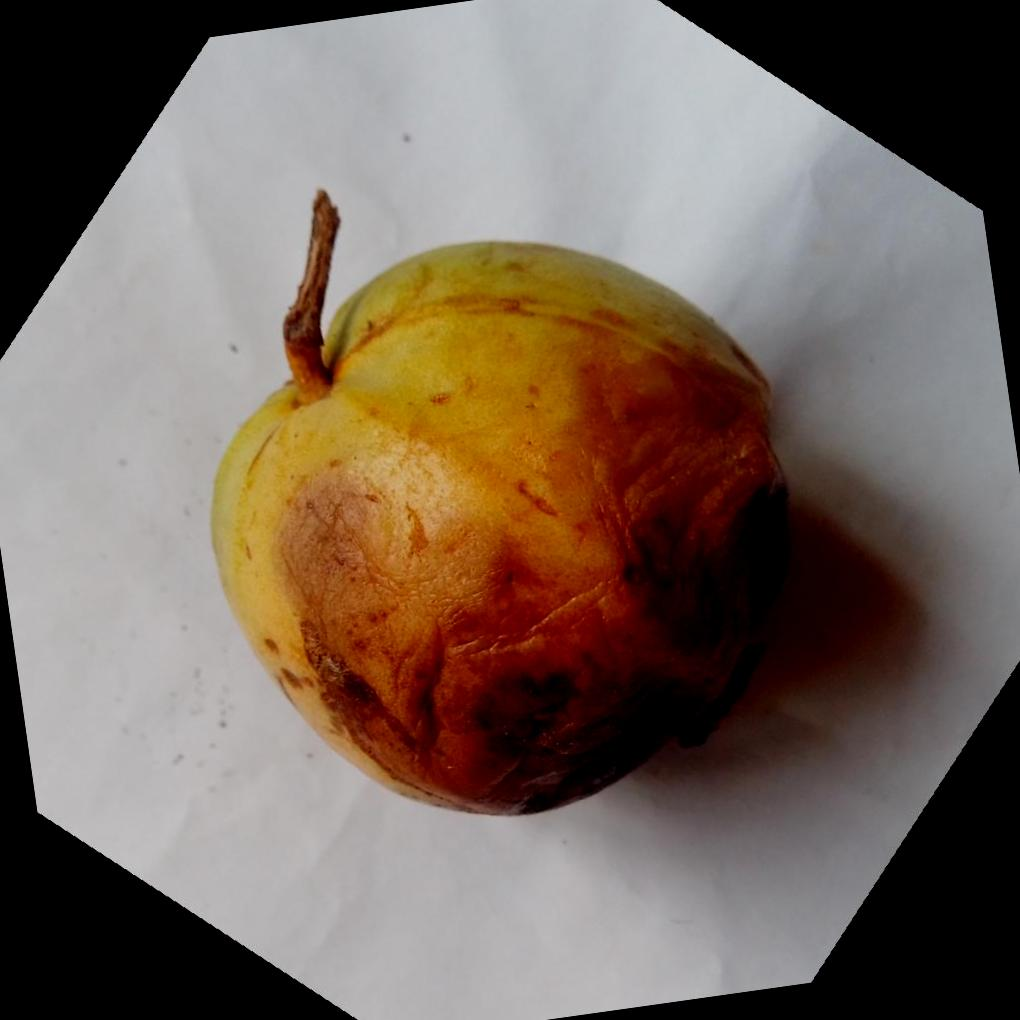FreshOrange: (207, 196, 792, 822)
